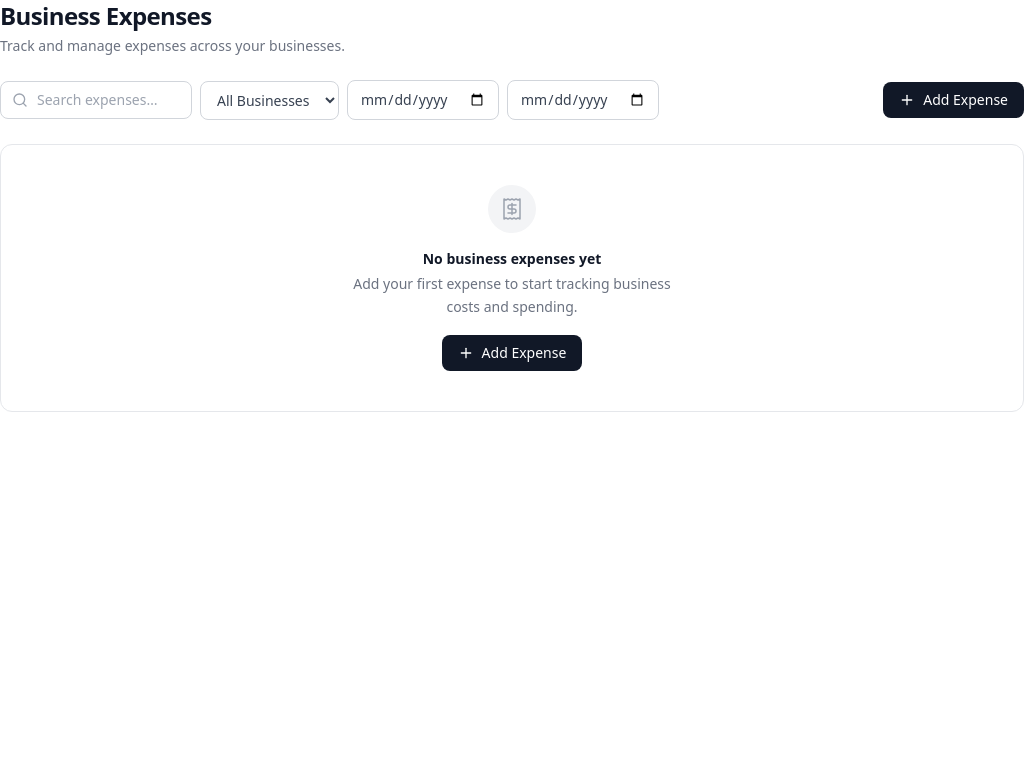
BusinessExpensesPage — create › shows validation error for empty title
This screenshot has width=1024, height=768.
Check: the heading "No business expenses yet" is shown, box [423,249,601,269]
Click the 1st button "Add Expense" at [954, 100], box [883,82,1023,118]
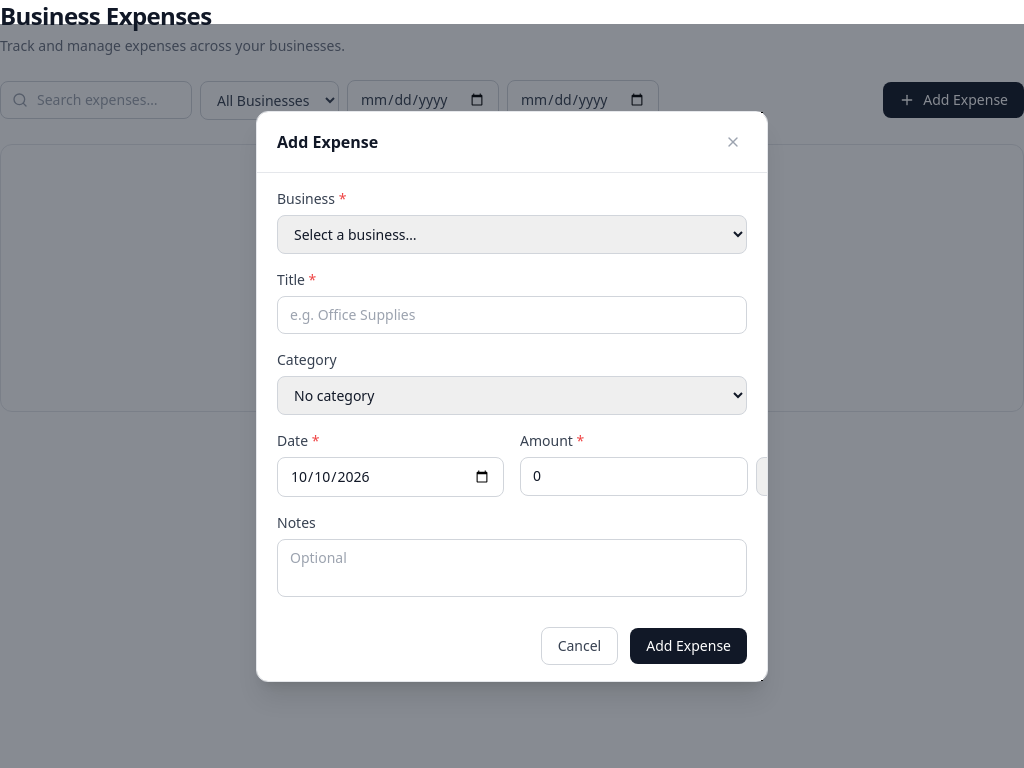
Check: the dialog is shown, box [256,110,768,682]
Click the button "Add Expense" at [689, 646], box [630,628,747,664]
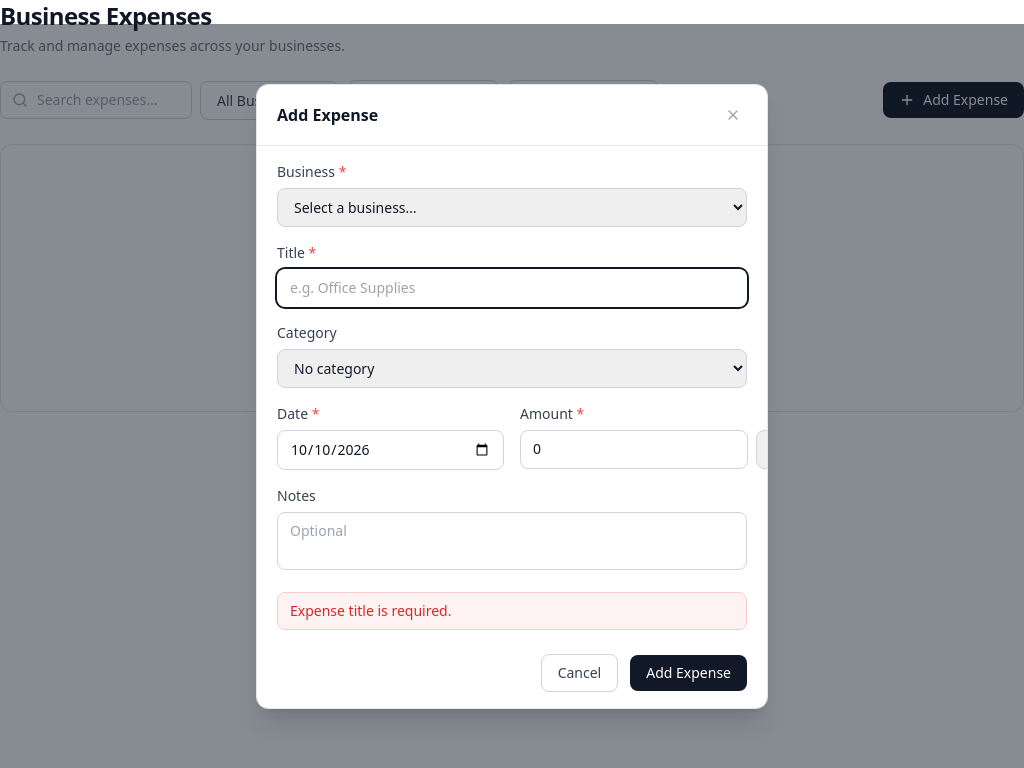
Check: the text "Expense title is required." is shown, box [277,592,747,630]
